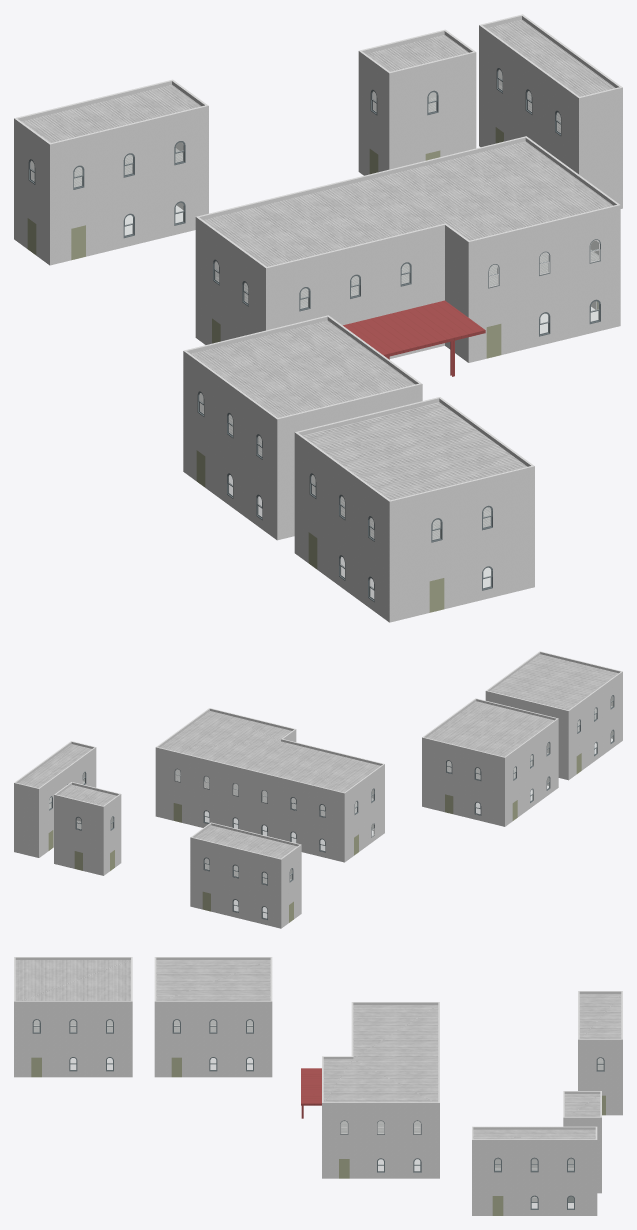
The model's file is Plan(REF)_levels(2)_window(W Arch Head 23_3-5)_wall(WAFRA WALL)_quoin(N)_cornice(N).fbx.
The picture shows the model from 3 angles, top to bottom: view 1: azimuth 30°, elevation 25°; view 2: azimuth 150°, elevation 25°; view 3: azimuth 270°, elevation 25°; orthographic projection. The views are drawn at different scales.
Parts seen in each view (by area): view 1: WAFRA Stucco - White Rough 23, WAFRA Roof - Corrugated Sheet Matte 23, WAFRA Roof - Standing Seam Red Coat 23, Metal - Finish - Aluminum, Glass - Clear, Color - Beige; view 2: WAFRA Stucco - White Rough 23, WAFRA Roof - Corrugated Sheet Matte 23, Metal - Finish - Aluminum, Glass - Clear, Color - Beige; view 3: WAFRA Stucco - White Rough 23, WAFRA Roof - Corrugated Sheet Matte 23, Glass - Clear, Metal - Finish - Aluminum, Color - Beige, WAFRA Roof - Standing Seam Red Coat 23.
Part boxes in pixels (box(x1,y1,x2,y2)): WAFRA Stucco - White Rough 23: box(14, 14, 622, 622); WAFRA Roof - Corrugated Sheet Matte 23: box(21, 19, 615, 539); WAFRA Roof - Standing Seam Red Coat 23: box(343, 300, 485, 376); Metal - Finish - Aluminum: box(28, 68, 600, 602); Glass - Clear: box(30, 70, 598, 598); Color - Beige: box(27, 127, 598, 612); WAFRA Stucco - White Rough 23: box(14, 651, 622, 928); WAFRA Roof - Corrugated Sheet Matte 23: box(18, 654, 618, 883); Metal - Finish - Aluminum: box(49, 695, 614, 919); Glass - Clear: box(49, 696, 613, 918); Color - Beige: box(48, 753, 581, 922); WAFRA Stucco - White Rough 23: box(14, 957, 622, 1215); WAFRA Roof - Corrugated Sheet Matte 23: box(15, 960, 621, 1170); Glass - Clear: box(34, 1020, 603, 1208); Metal - Finish - Aluminum: box(32, 1019, 604, 1209); Color - Beige: box(31, 1057, 605, 1215); WAFRA Roof - Standing Seam Red Coat 23: box(301, 1068, 321, 1118).
Size of the model in its own units: 4148 by 5833 by 800.
Materials: 11 (4 with a texture image).
